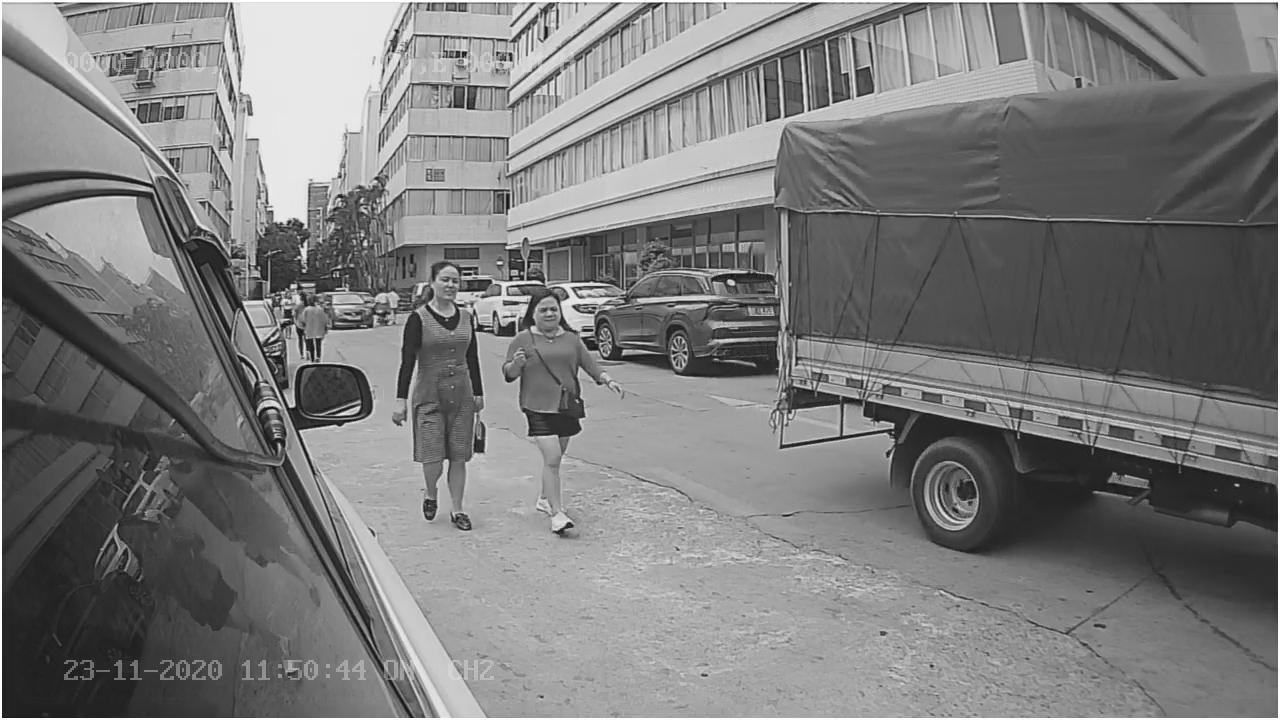person: (503, 281, 617, 537), (392, 262, 487, 527)
